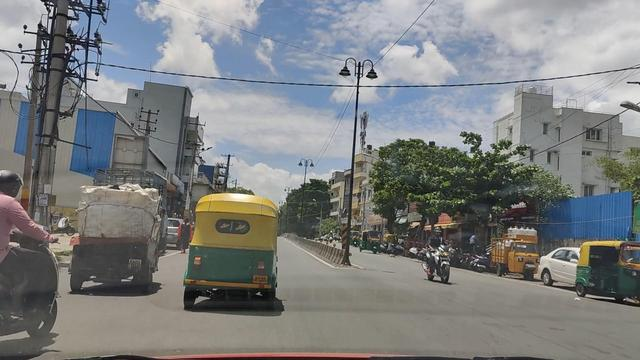LMV: (189, 199, 282, 315), (76, 185, 168, 288), (4, 173, 56, 339)
